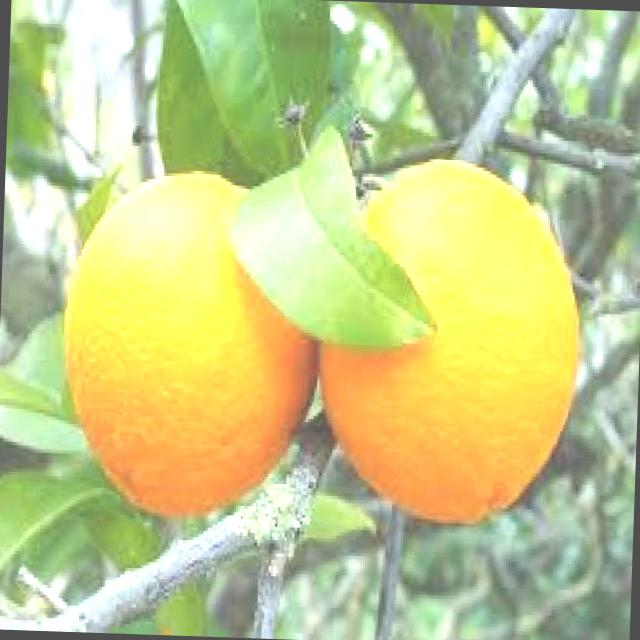Orange: (314, 152, 587, 527), (57, 163, 326, 522)
